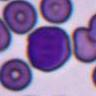L: (26, 26, 69, 72)
